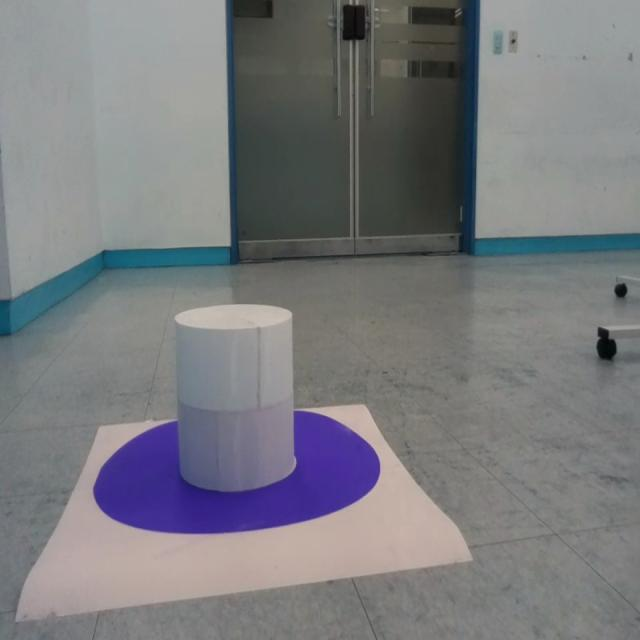cylinder: (174, 304, 296, 492)
